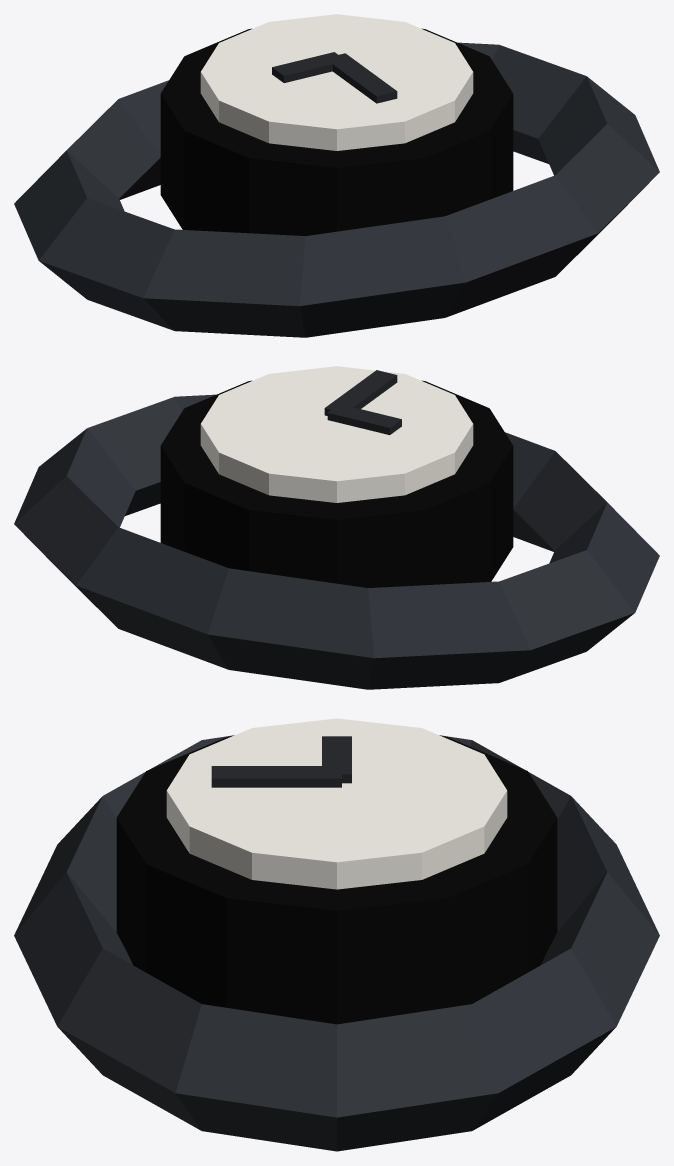
The model's file is Item_wristwatch.fbx.
The picture shows the model from 3 angles, top to bottom: view 1: azimuth 30°, elevation 25°; view 2: azimuth 150°, elevation 25°; view 3: azimuth 270°, elevation 25°; orthographic projection. The views are drawn at different scales.
Parts seen in each view (by area): view 1: Strap, Case.001, Glass, Hands; view 2: Strap, Case.001, Glass, Hands; view 3: Strap, Case.001, Glass, Hands.
Boxes of the visible parts, x1=… form: Strap: x1=14, y1=42, x2=659, y2=337; Case.001: x1=160, y1=28, x2=513, y2=235; Glass: x1=200, y1=14, x2=473, y2=150; Hands: x1=272, y1=52, x2=397, y2=103; Strap: x1=14, y1=394, x2=659, y2=689; Case.001: x1=160, y1=380, x2=513, y2=587; Glass: x1=200, y1=366, x2=473, y2=502; Hands: x1=324, y1=370, x2=401, y2=434; Strap: x1=14, y1=735, x2=659, y2=1151; Case.001: x1=116, y1=736, x2=557, y2=1024; Glass: x1=166, y1=718, x2=507, y2=889; Hands: x1=211, y1=736, x2=351, y2=787.
Bounding box in the file's own units: 0.1161 × 0.0338 × 0.0871.
